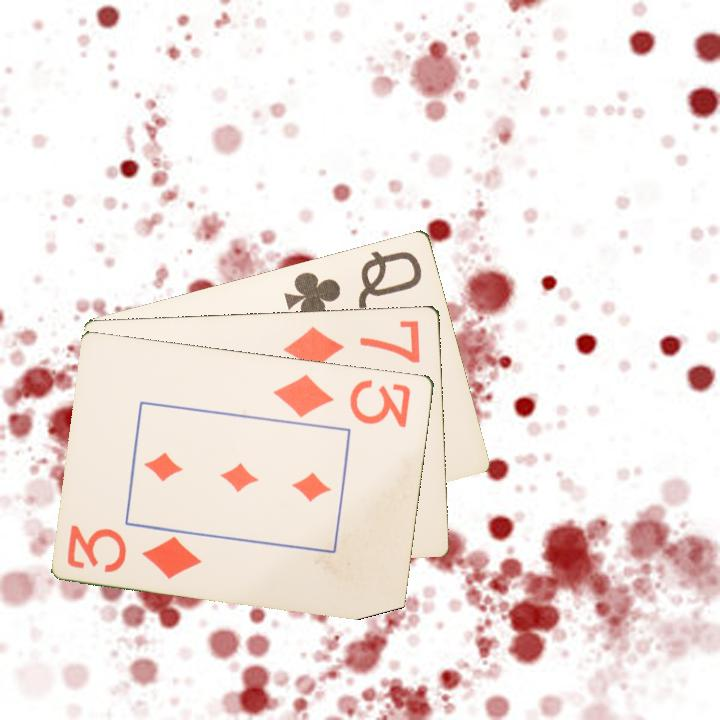3d: (64, 520, 205, 582), (270, 370, 414, 430)
7d: (280, 316, 424, 372)
Qc: (281, 246, 425, 323)
